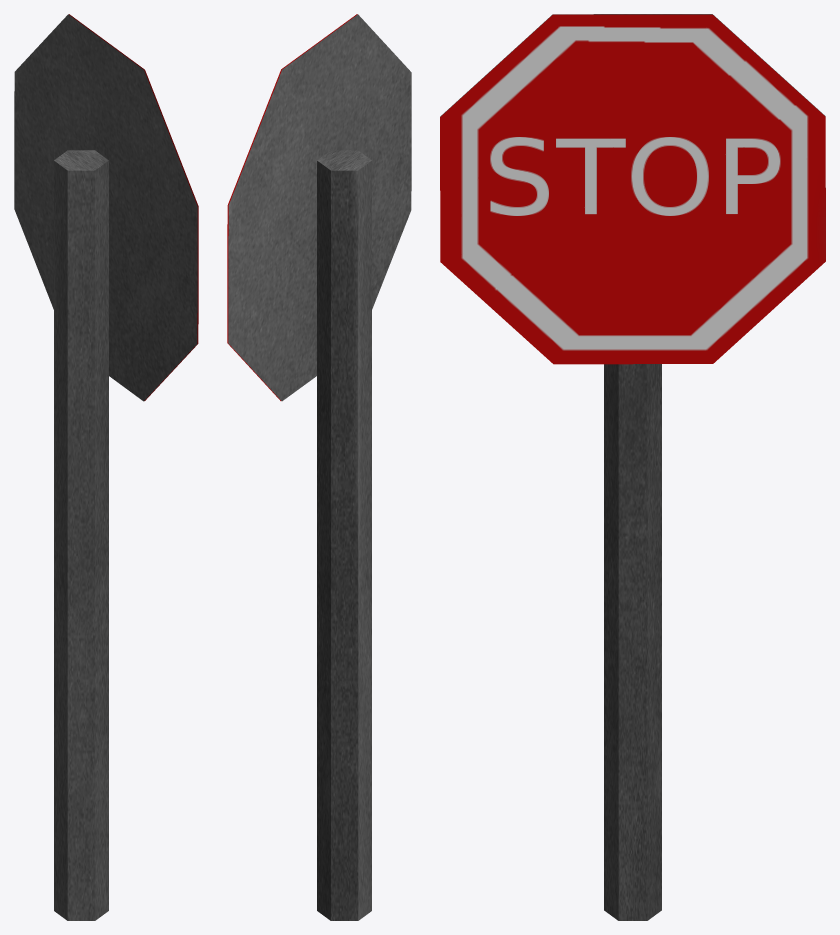
Rendered from model_promps_streetsign.fbx.
3 views of the same model, side by side, from view 1: azimuth 30°, elevation 25°; view 2: azimuth 150°, elevation 25°; view 3: azimuth 270°, elevation 25° (orthographic). The views are drawn at different scales.
Parts seen in each view (by area): view 1: Cylinder; view 2: Cylinder; view 3: Cylinder.
Boxes of the visible parts, left/top/right/bottom form: Cylinder: left=14, top=14, right=198, bottom=920; Cylinder: left=227, top=14, right=411, bottom=920; Cylinder: left=440, top=14, right=825, bottom=920.
Size of the model in its own units: 26.96 by 481 by 185.
